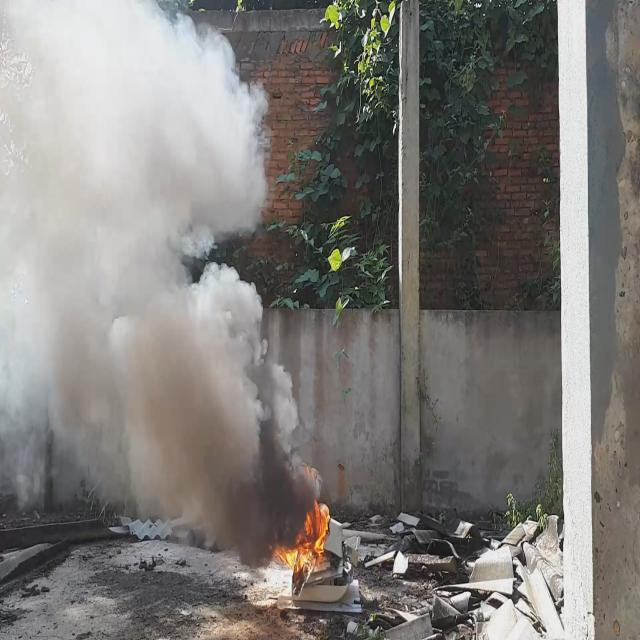Fire: (274, 485, 332, 578)
Smoke: (0, 0, 324, 571)
